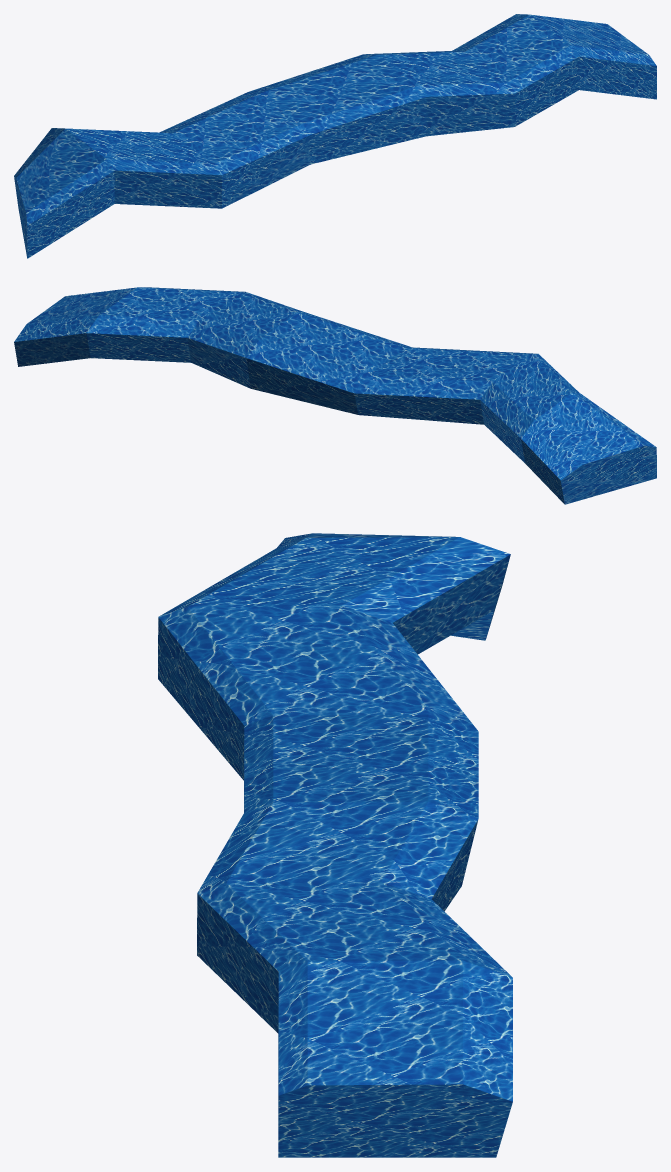
Rendered from river2.glb.
3 renders of one model, top to bottom at view 1: azimuth 30°, elevation 25°; view 2: azimuth 150°, elevation 25°; view 3: azimuth 270°, elevation 25°, orthographic. The views are drawn at different scales.
Parts seen in each view (by area): view 1: Cube.001; view 2: Cube.001; view 3: Cube.001.
Part boxes in pixels (box(x1,y1,x2,y2)): Cube.001: box(14, 14, 656, 258); Cube.001: box(14, 287, 656, 504); Cube.001: box(158, 533, 512, 1157).
Bounding box in the file's own units: 10.87 × 1.34 × 2.85.
1 material, 1 textured.
